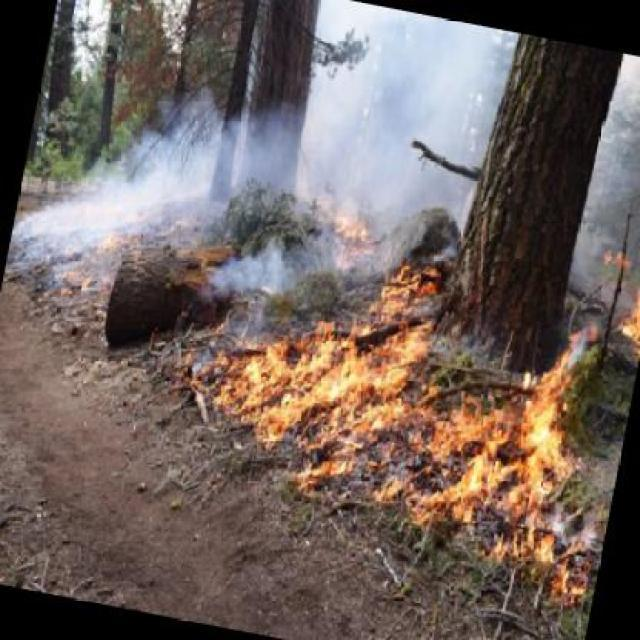Fire: (192, 264, 592, 592), (618, 285, 640, 348)
Smoke: (14, 105, 473, 216), (310, 7, 510, 102)
